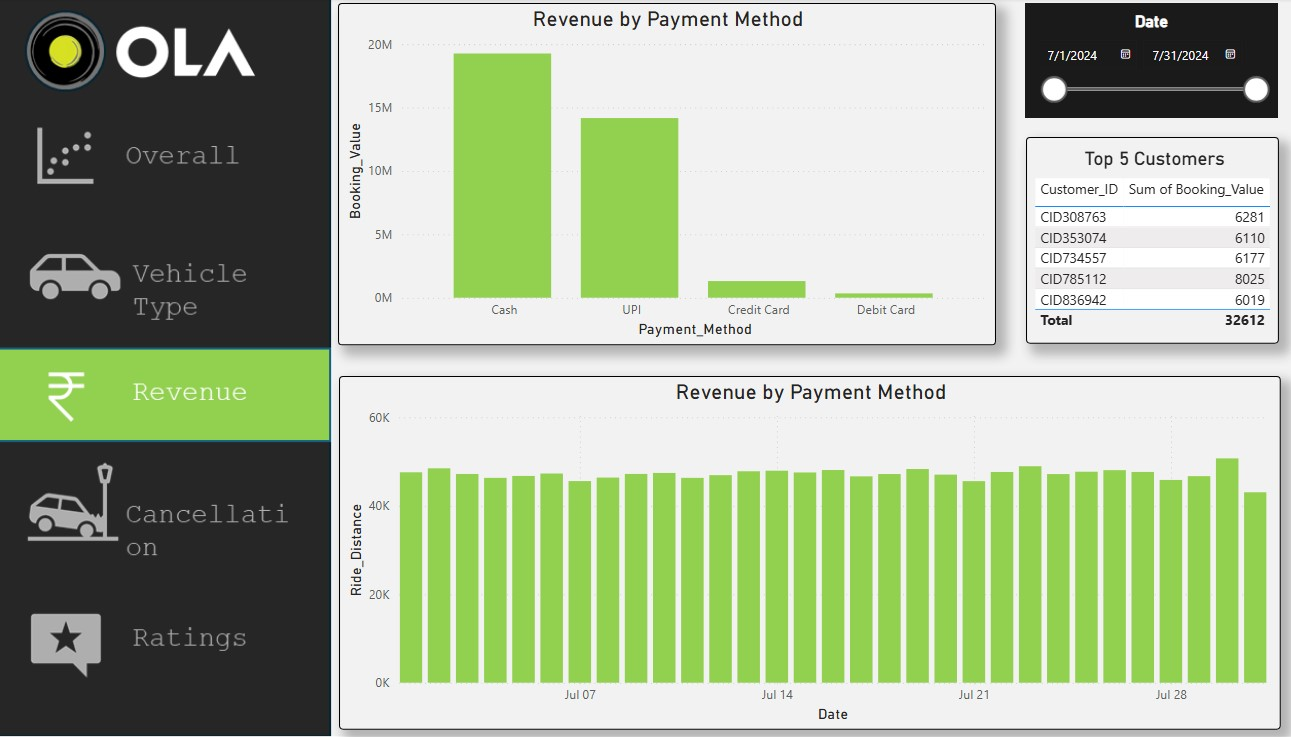

What the dashboard file says about the page in this screenshot:
{"tool":"powerbi","page":{"name":"REVENUE","canvas":[1280,720],"ordinal":2},"visuals":[{"type":"actionButton","box":[0,230,322.7,91.8],"z":0},{"type":"actionButton","box":[0,451.6,322.7,97.8],"z":1000},{"type":"actionButton","box":[0.9,580.4,322.7,97.8],"z":2000},{"type":"actionButton","box":[0,107.6,322.7,97.8],"z":3000},{"type":"clusteredColumnChart","title":"Revenue by Payment Method","fields":{"Y":["Sum(Bookings-100000-Rows - July.Booking_Value)"],"Category":["Bookings-100000-Rows - July.Payment_Method"]},"box":[330.7,4.9,640,332.6],"z":4000},{"type":"clusteredColumnChart","title":"Revenue by Payment Method","fields":{"Y":["Sum(Bookings-100000-Rows - July.Ride_Distance)"],"Category":["Bookings-100000-Rows - July.Date"]},"box":[331.7,367.7,916.2,344.3],"z":5000},{"type":"slicer","title":"Date","fields":{"Values":["Bookings-100000-Rows - July.Date"]},"box":[998.9,4.9,246.1,110.9],"z":6000},{"type":"tableEx","title":"Top 5 Customers","fields":{"Values":["Bookings-100000-Rows - July.Customer_ID","Sum(Bookings-100000-Rows - July.Booking_Value)"]},"box":[999.9,135.2,246.1,201.3],"z":7000}]}

Visuals, with their boxes in screenshot pixels (x1, y1, x2, y2):
actionButton: bbox(0, 230, 323, 325)
actionButton: bbox(0, 459, 323, 560)
actionButton: bbox(0, 592, 324, 693)
actionButton: bbox(0, 104, 323, 205)
"Revenue by Payment Method" clusteredColumnChart: bbox(331, 0, 991, 341)
"Revenue by Payment Method" clusteredColumnChart: bbox(332, 372, 1277, 728)
"Date" slicer: bbox(1020, 0, 1274, 113)
"Top 5 Customers" tableEx: bbox(1021, 133, 1275, 340)
